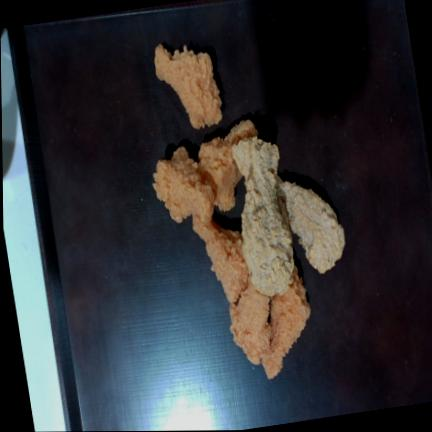chicken: (232, 136, 294, 296), (277, 177, 344, 272), (154, 43, 221, 128), (261, 265, 310, 378), (198, 120, 257, 210), (192, 215, 248, 302), (152, 146, 214, 222), (229, 279, 270, 364)
